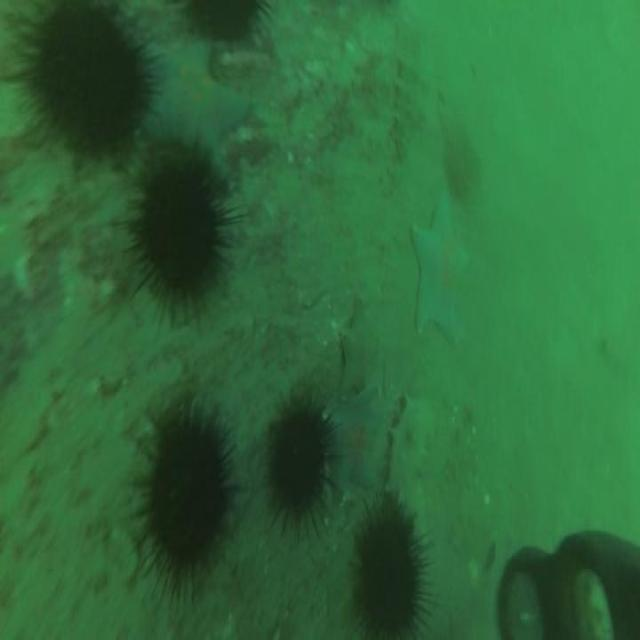echinus: (35, 11, 149, 149), (144, 422, 228, 572), (138, 168, 220, 289), (357, 510, 423, 634), (269, 408, 327, 518)
holothurian: (388, 393, 434, 509), (396, 50, 415, 156)
starfish: (141, 38, 248, 164), (411, 186, 469, 342), (334, 390, 383, 490), (340, 302, 380, 390)
